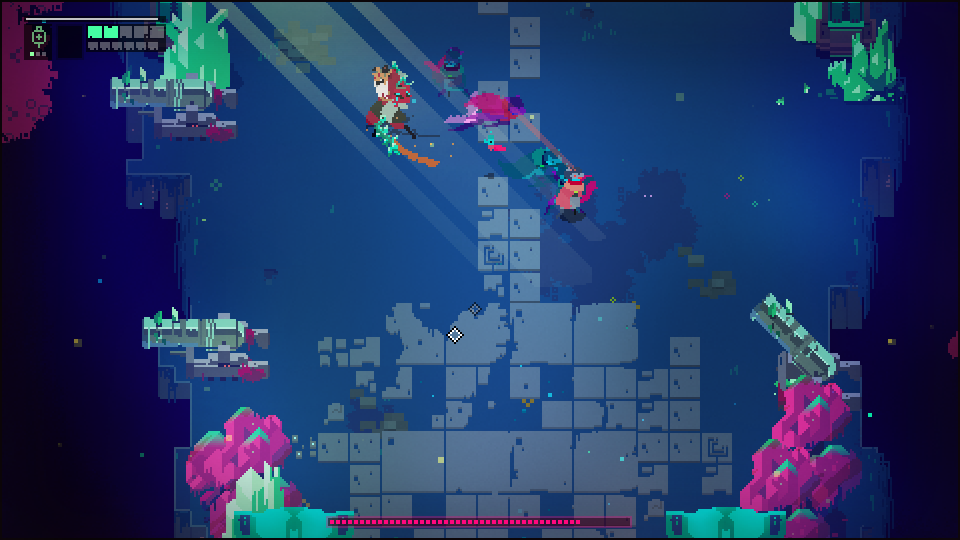hanged_man: (361, 58, 431, 167)
player: (553, 168, 585, 219)
